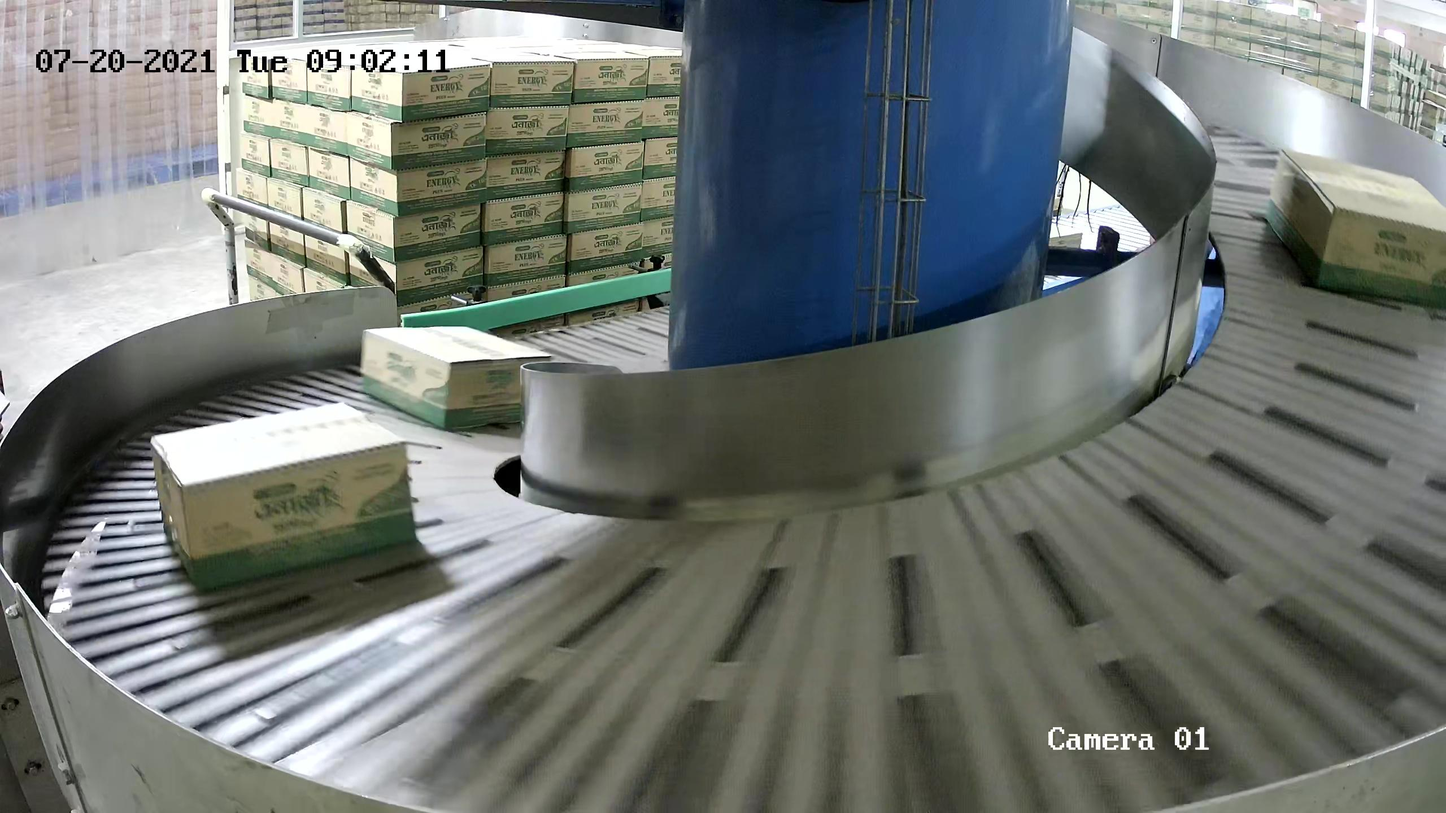Box: (150, 401, 418, 594), (1261, 146, 1446, 313), (361, 326, 554, 432)
